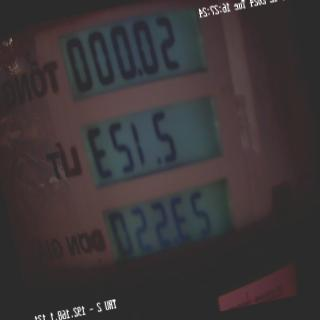screen: (53, 0, 252, 283)
